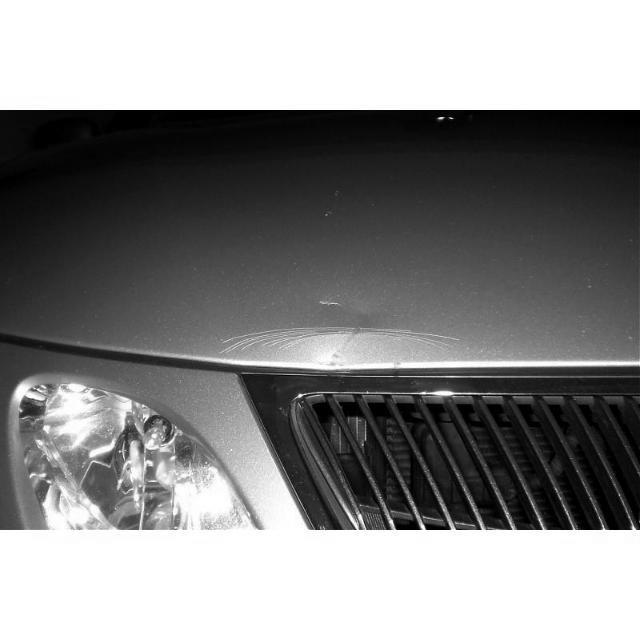bonnet-dent: (1, 113, 640, 443)
